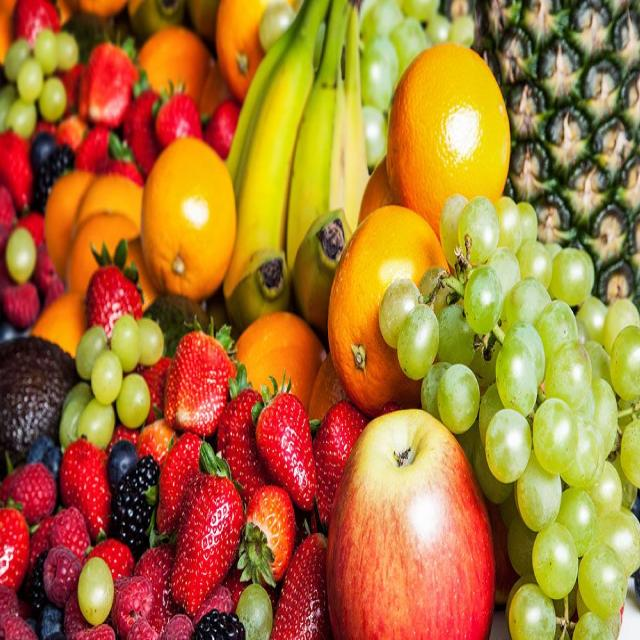apple: (328, 422, 496, 640)
green grape: (386, 182, 640, 640), (56, 312, 166, 446), (0, 21, 74, 130)
orange: (388, 43, 512, 222), (136, 141, 242, 310)
pine apple: (512, 0, 640, 247)
strawberry: (233, 0, 375, 339), (171, 454, 236, 610), (160, 318, 240, 443), (262, 384, 322, 512), (88, 243, 142, 329), (82, 46, 140, 126)
